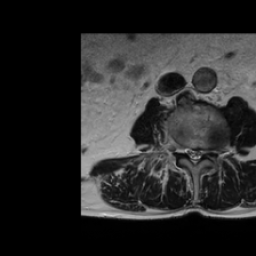CCS_stenosis: (191, 143, 197, 168)
LFS_stenosis: (203, 144, 211, 158)
LLS_stenosis: (197, 144, 203, 161)
RFS_normal: (179, 140, 185, 159)
RLS_stenosis: (185, 143, 191, 161)
